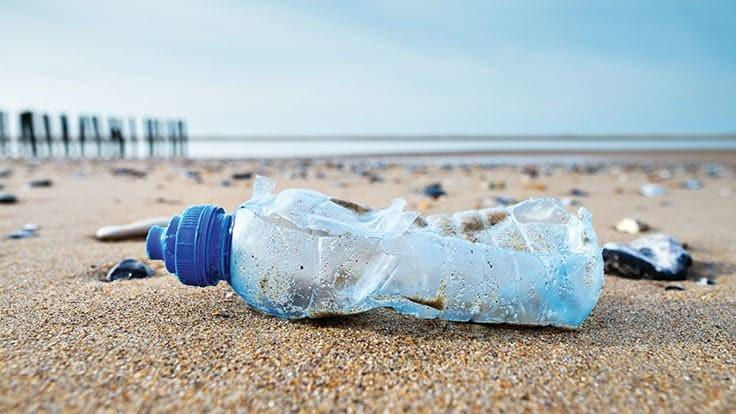bottle: (134, 175, 610, 328)
